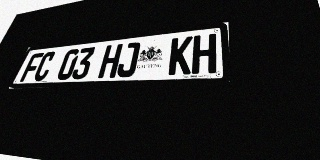0: (55, 48, 81, 80)
3: (70, 47, 96, 80)
C: (32, 51, 57, 81)
F: (19, 53, 44, 82)
H: (191, 33, 216, 74), (97, 44, 123, 78)
J: (115, 42, 141, 78)
K: (168, 36, 193, 75)
